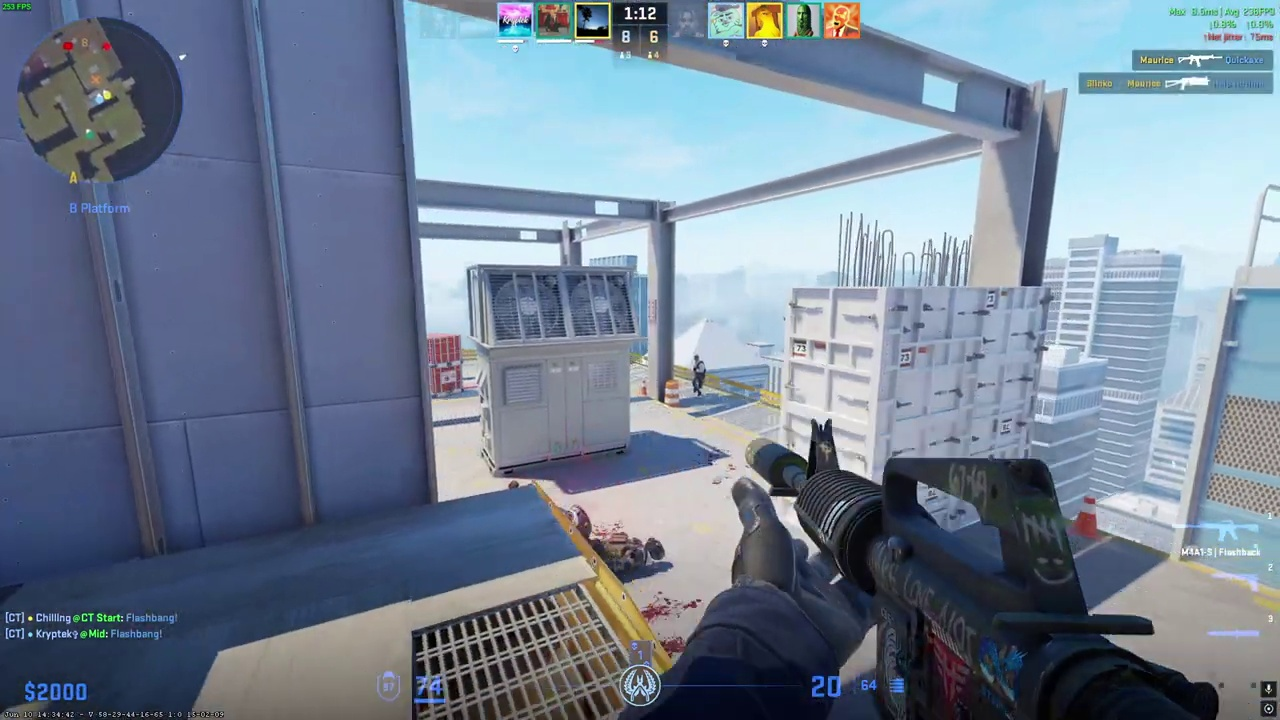Terrorist: (691, 354, 706, 396)
